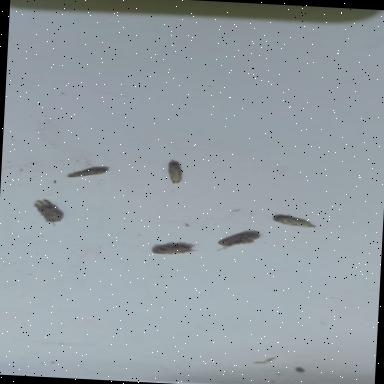pbw: (212, 228, 262, 256), (28, 195, 69, 226), (145, 240, 206, 258), (62, 162, 112, 182), (270, 211, 320, 230), (162, 157, 188, 186)
